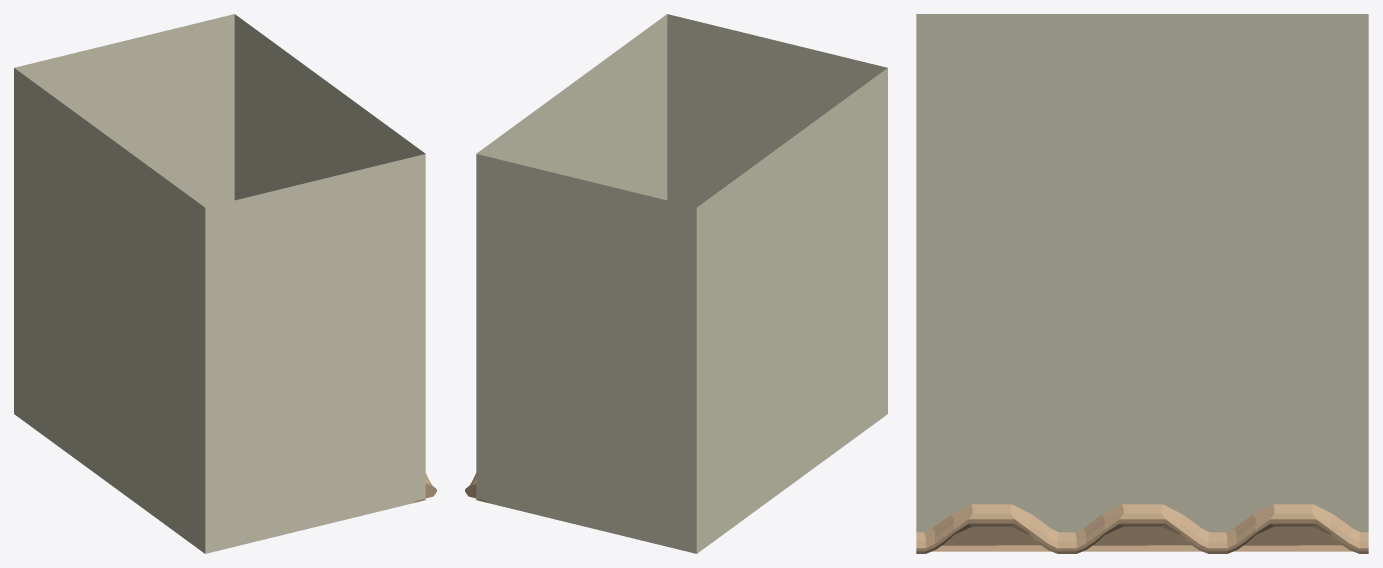
File: Gaudi top 8x4.fbx
3 views of the same model, side by side, from view 1: azimuth 30°, elevation 25°; view 2: azimuth 150°, elevation 25°; view 3: azimuth 270°, elevation 25° (orthographic). The views are drawn at different scales.
Parts seen in each view (by area): view 1: Gaudi Top 8; view 2: Gaudi Top 8; view 3: Gaudi Top 8.
Part boxes in pixels (x1,y1,x2,y2): Gaudi Top 8: [14, 14, 436, 553]; Gaudi Top 8: [465, 14, 887, 553]; Gaudi Top 8: [916, 14, 1368, 553].
Size of the model in its own units: 420 by 600 by 600.
